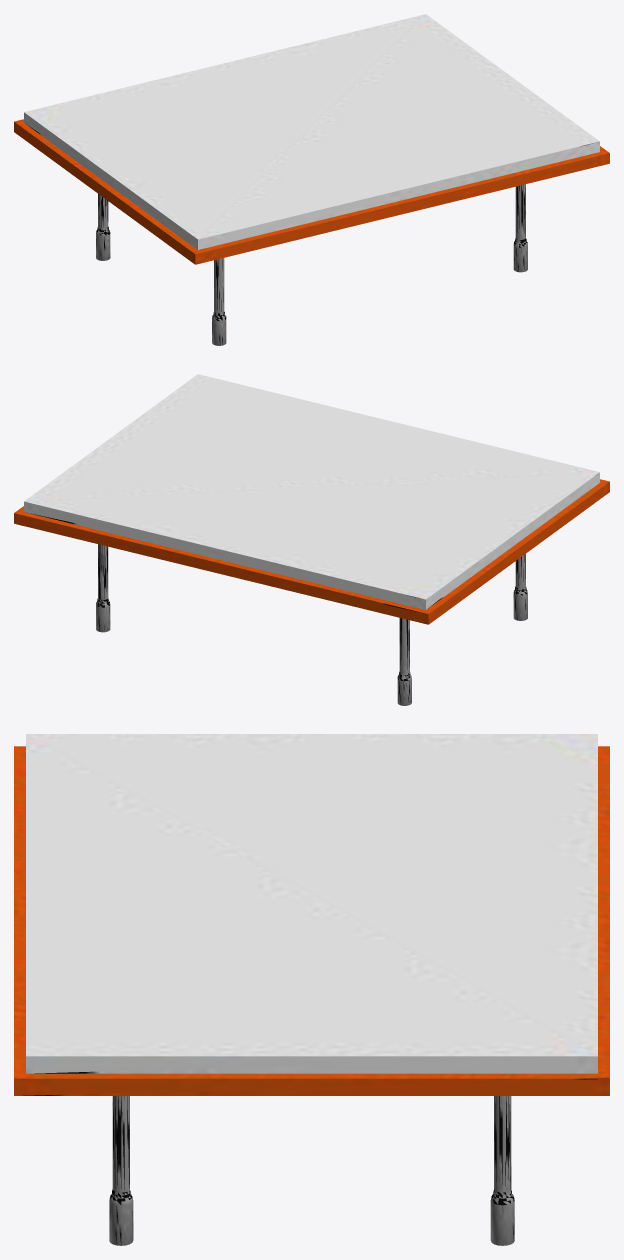
Rendered from station-canopy.glb.
3 renders of one model, top to bottom at view 1: azimuth 30°, elevation 25°; view 2: azimuth 150°, elevation 25°; view 3: azimuth 270°, elevation 25°, orthographic. The views are drawn at different scales.
Visible parts, largest first — view 1: Station-canopyBody; view 2: Station-canopyBody; view 3: Station-canopyBody.
Boxes of the visible parts, box(x1,y1,x2,y2) form: Station-canopyBody: box(14, 14, 609, 345); Station-canopyBody: box(14, 374, 609, 705); Station-canopyBody: box(14, 734, 609, 1245).
Size of the model in its own units: 16.5 by 5.2 by 12.5.
Materials: 1 (1 with a texture image).
